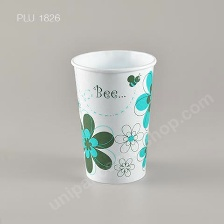paper_cup: (66, 46, 161, 187)
